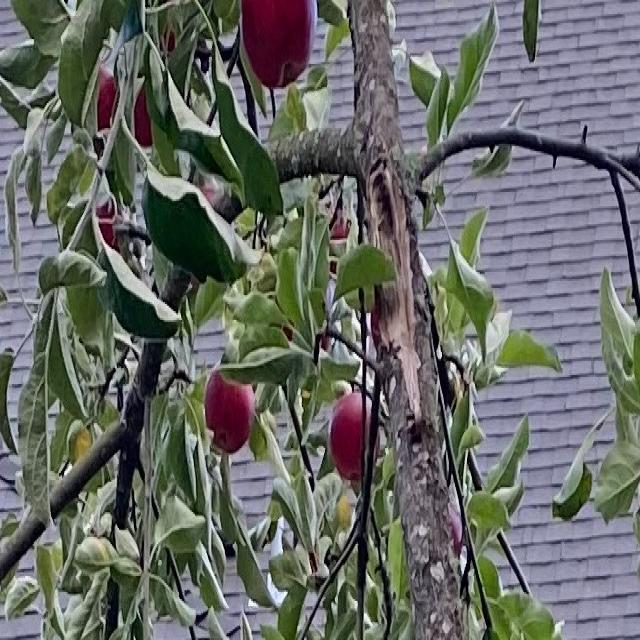Apples: (241, 0, 317, 86), (204, 369, 253, 452), (72, 68, 118, 154), (331, 393, 376, 480), (132, 78, 154, 150), (94, 196, 120, 250)
